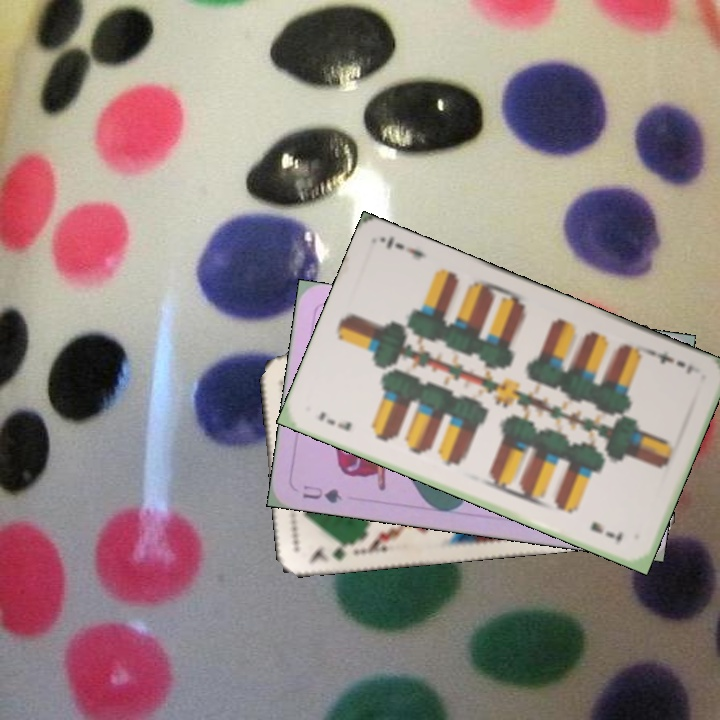E7: (645, 345, 696, 378), (314, 407, 354, 434)
GK: (305, 536, 359, 566)
GU: (298, 481, 345, 506)
